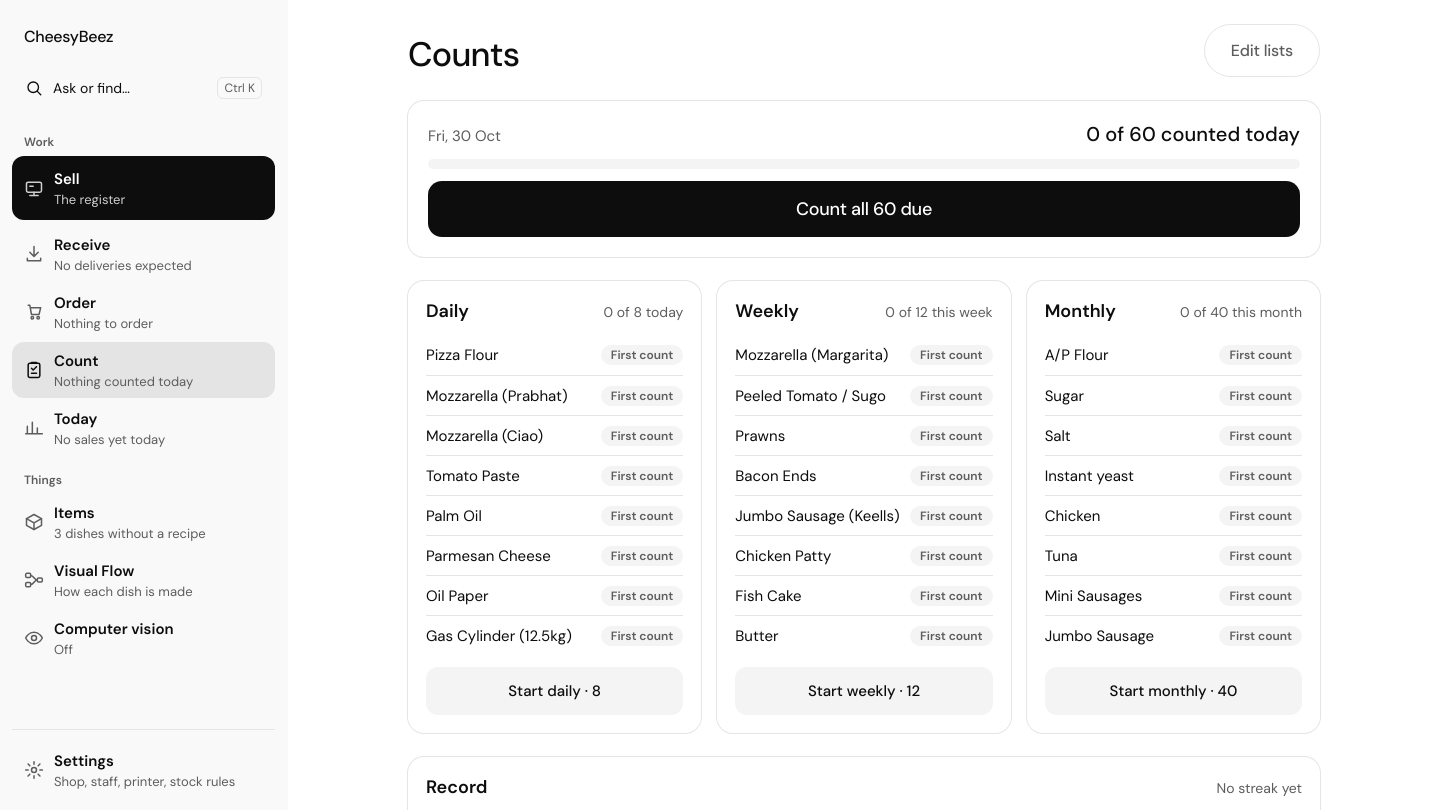
Scenario: tap a day on the record: that day's counts are listed
Click the button "Start monthly · 40" at (1173,691), box [1045, 667, 1302, 715]
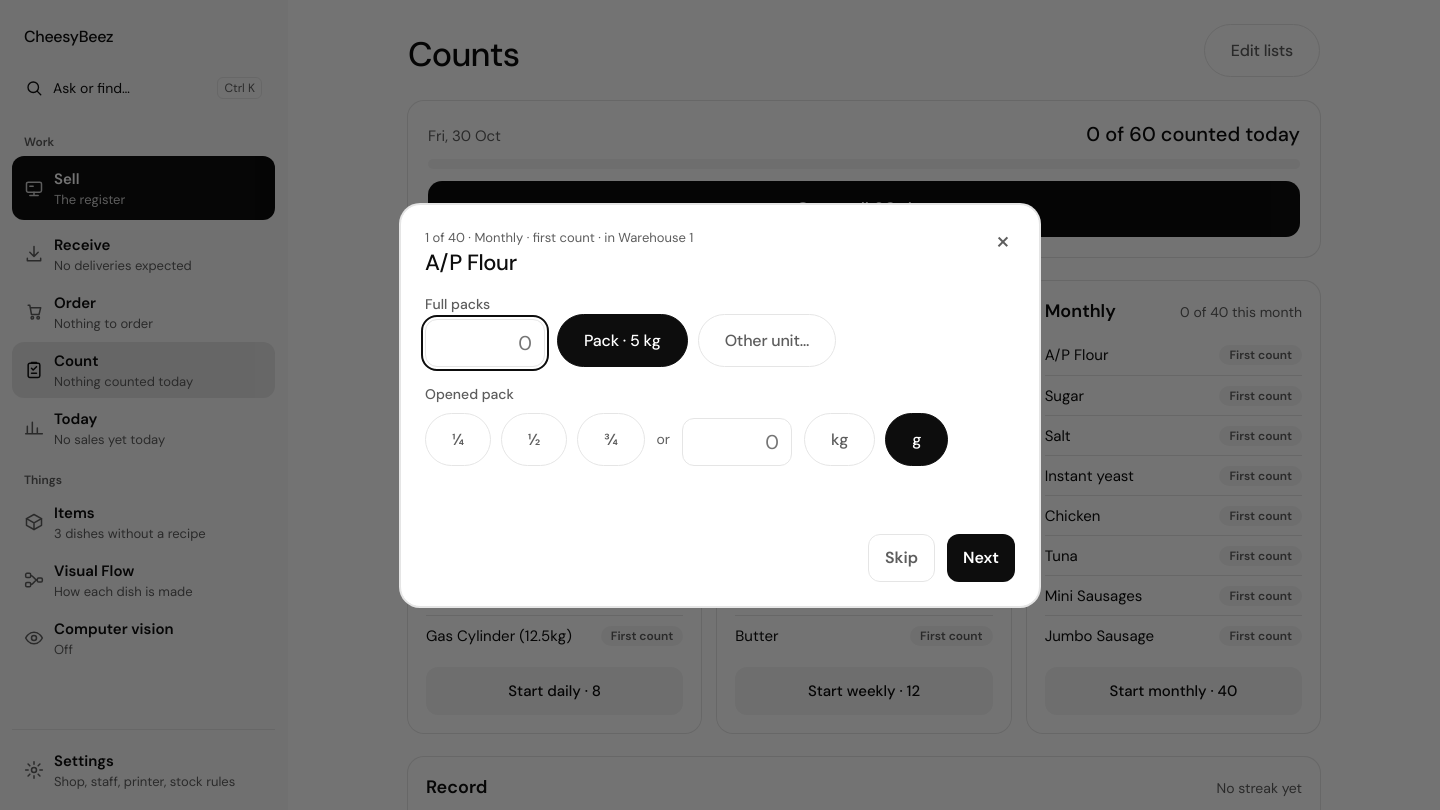
Type "1" into the field labelled "Full packs" at (485,342), box [425, 318, 545, 366]
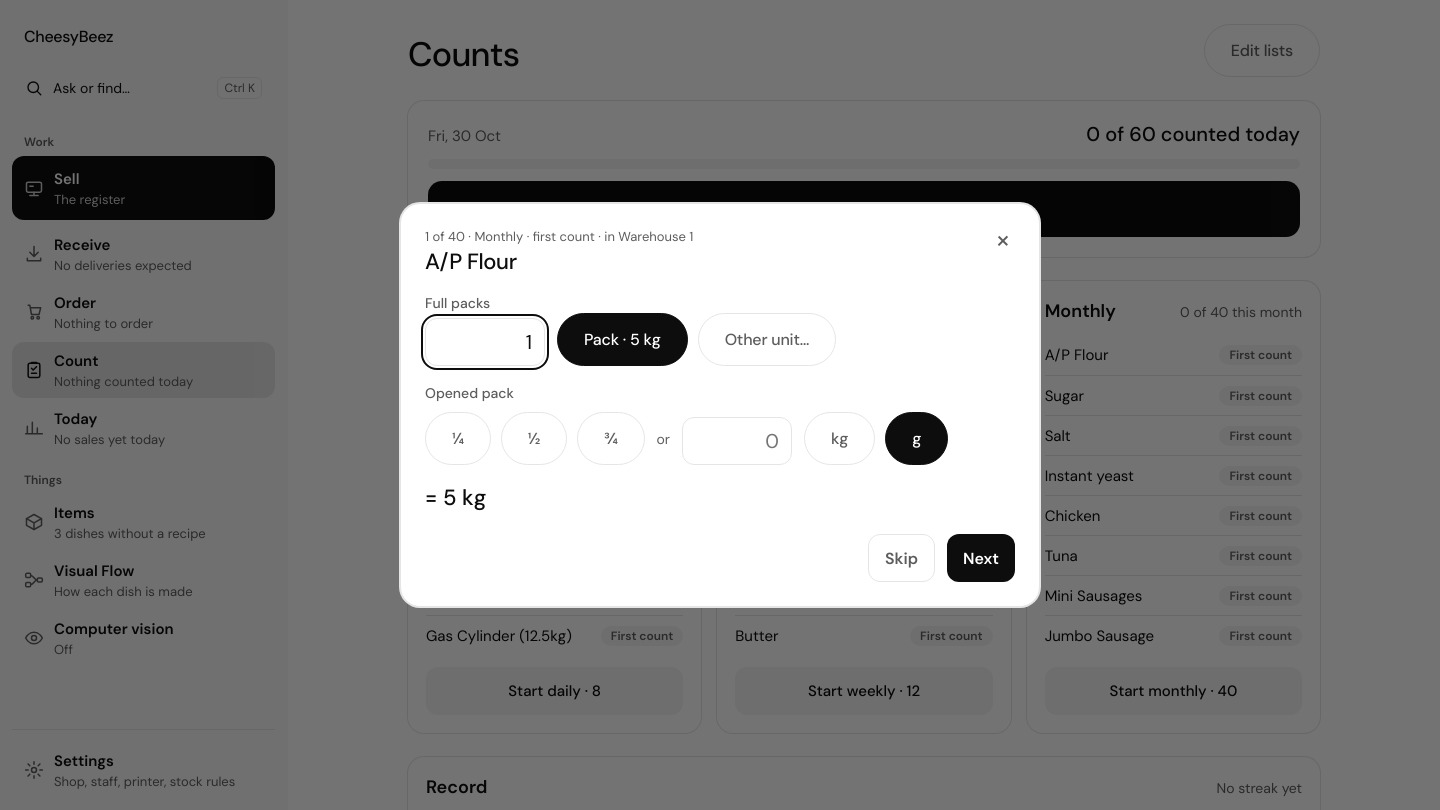
Click the button "Next" at (981,558), box [947, 534, 1015, 582]
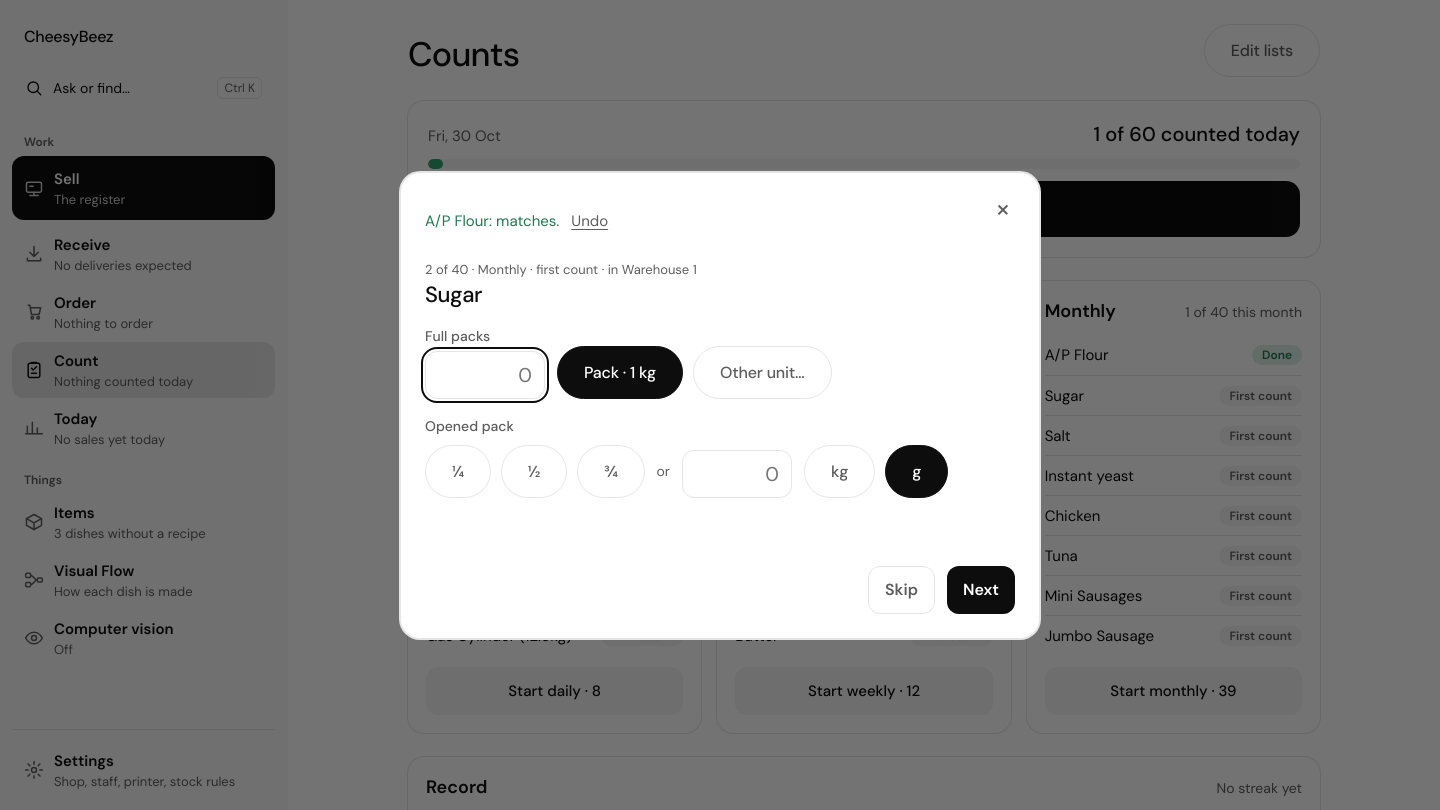
Press Escape
(page scrolled)
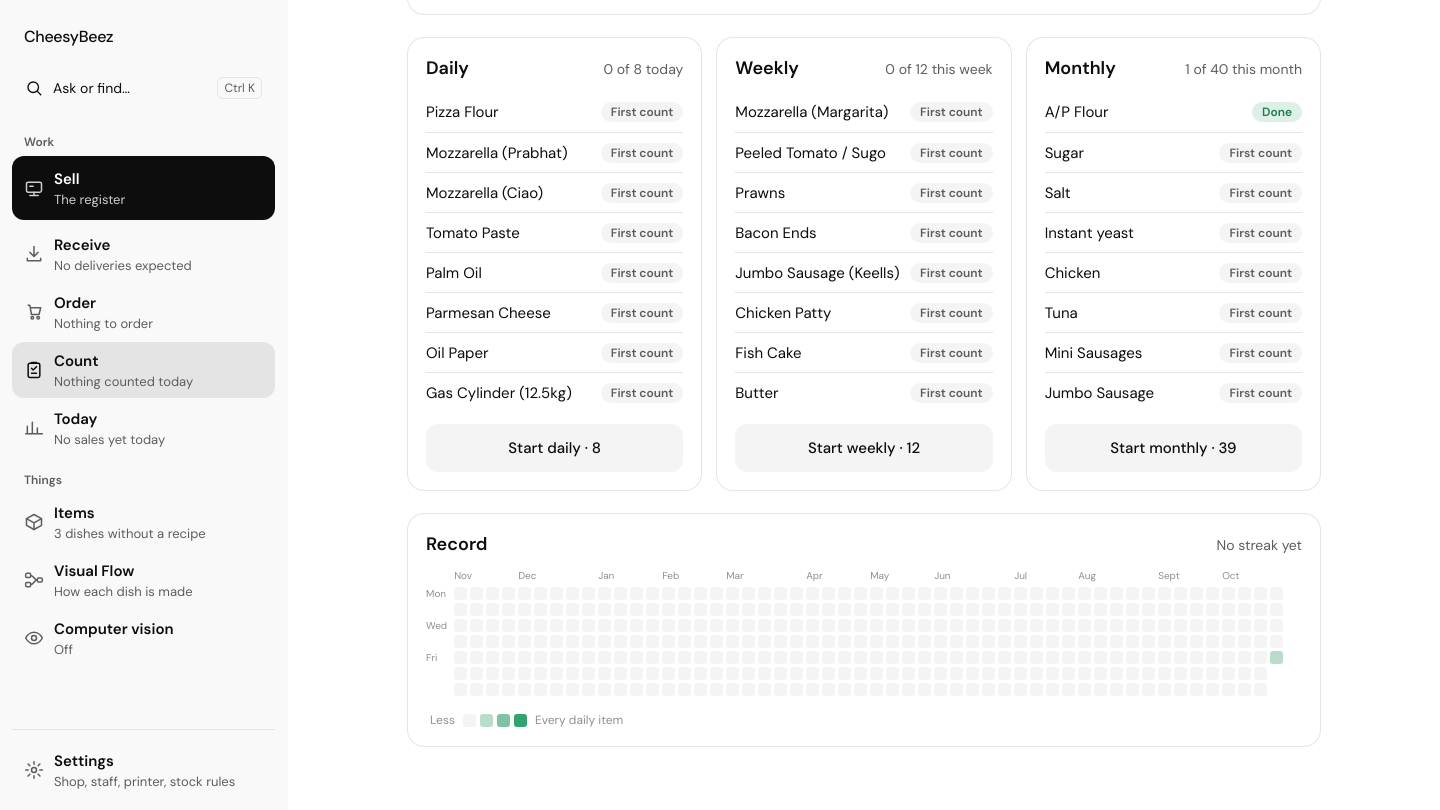
Click the button named "counted" at (1277,658), box [1270, 651, 1283, 664]
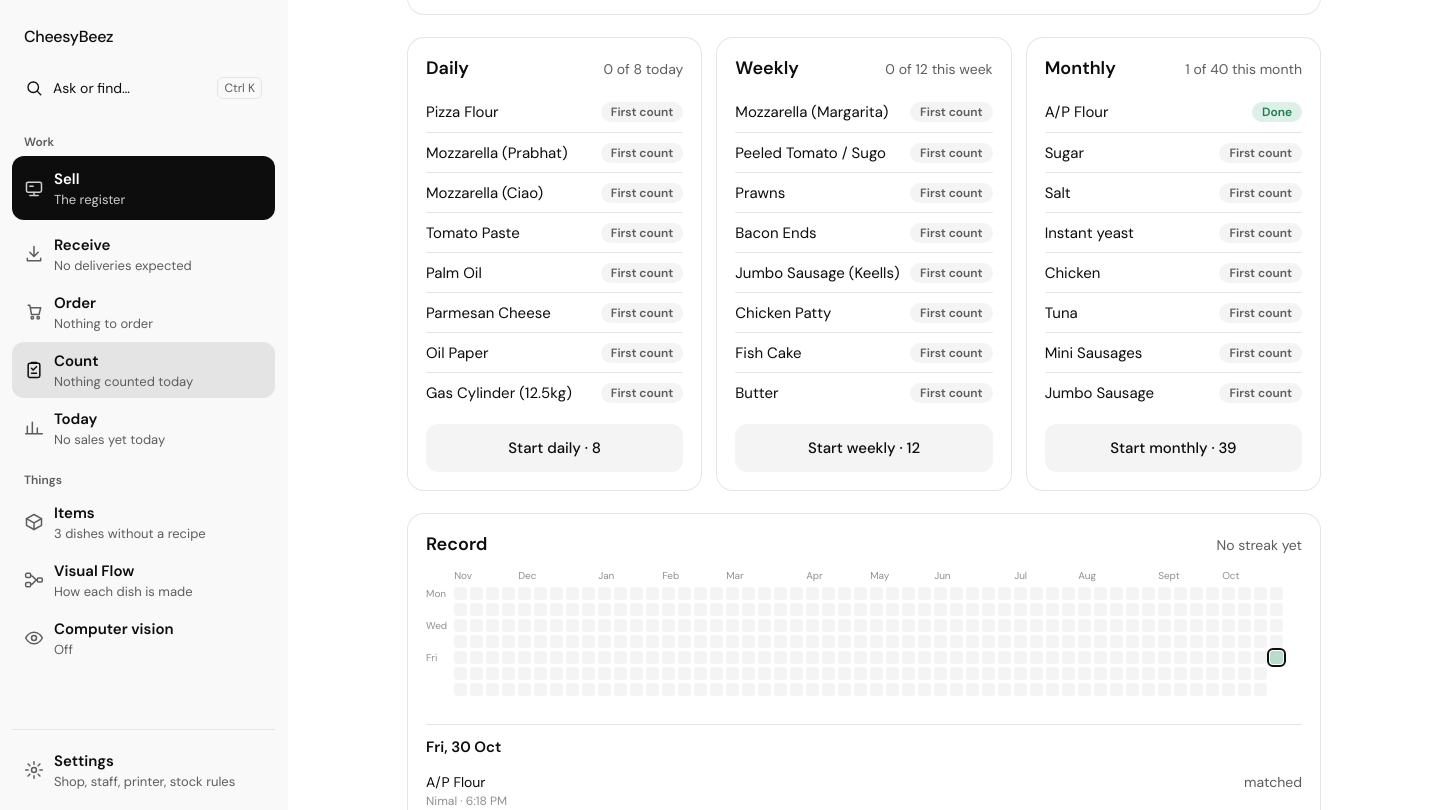
Check: the text "matched" is shown, box [1244, 773, 1302, 791]
